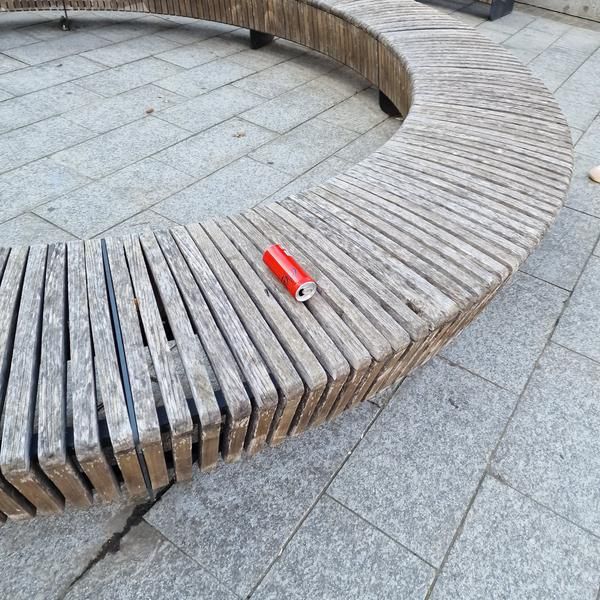can: (258, 240, 321, 307)
